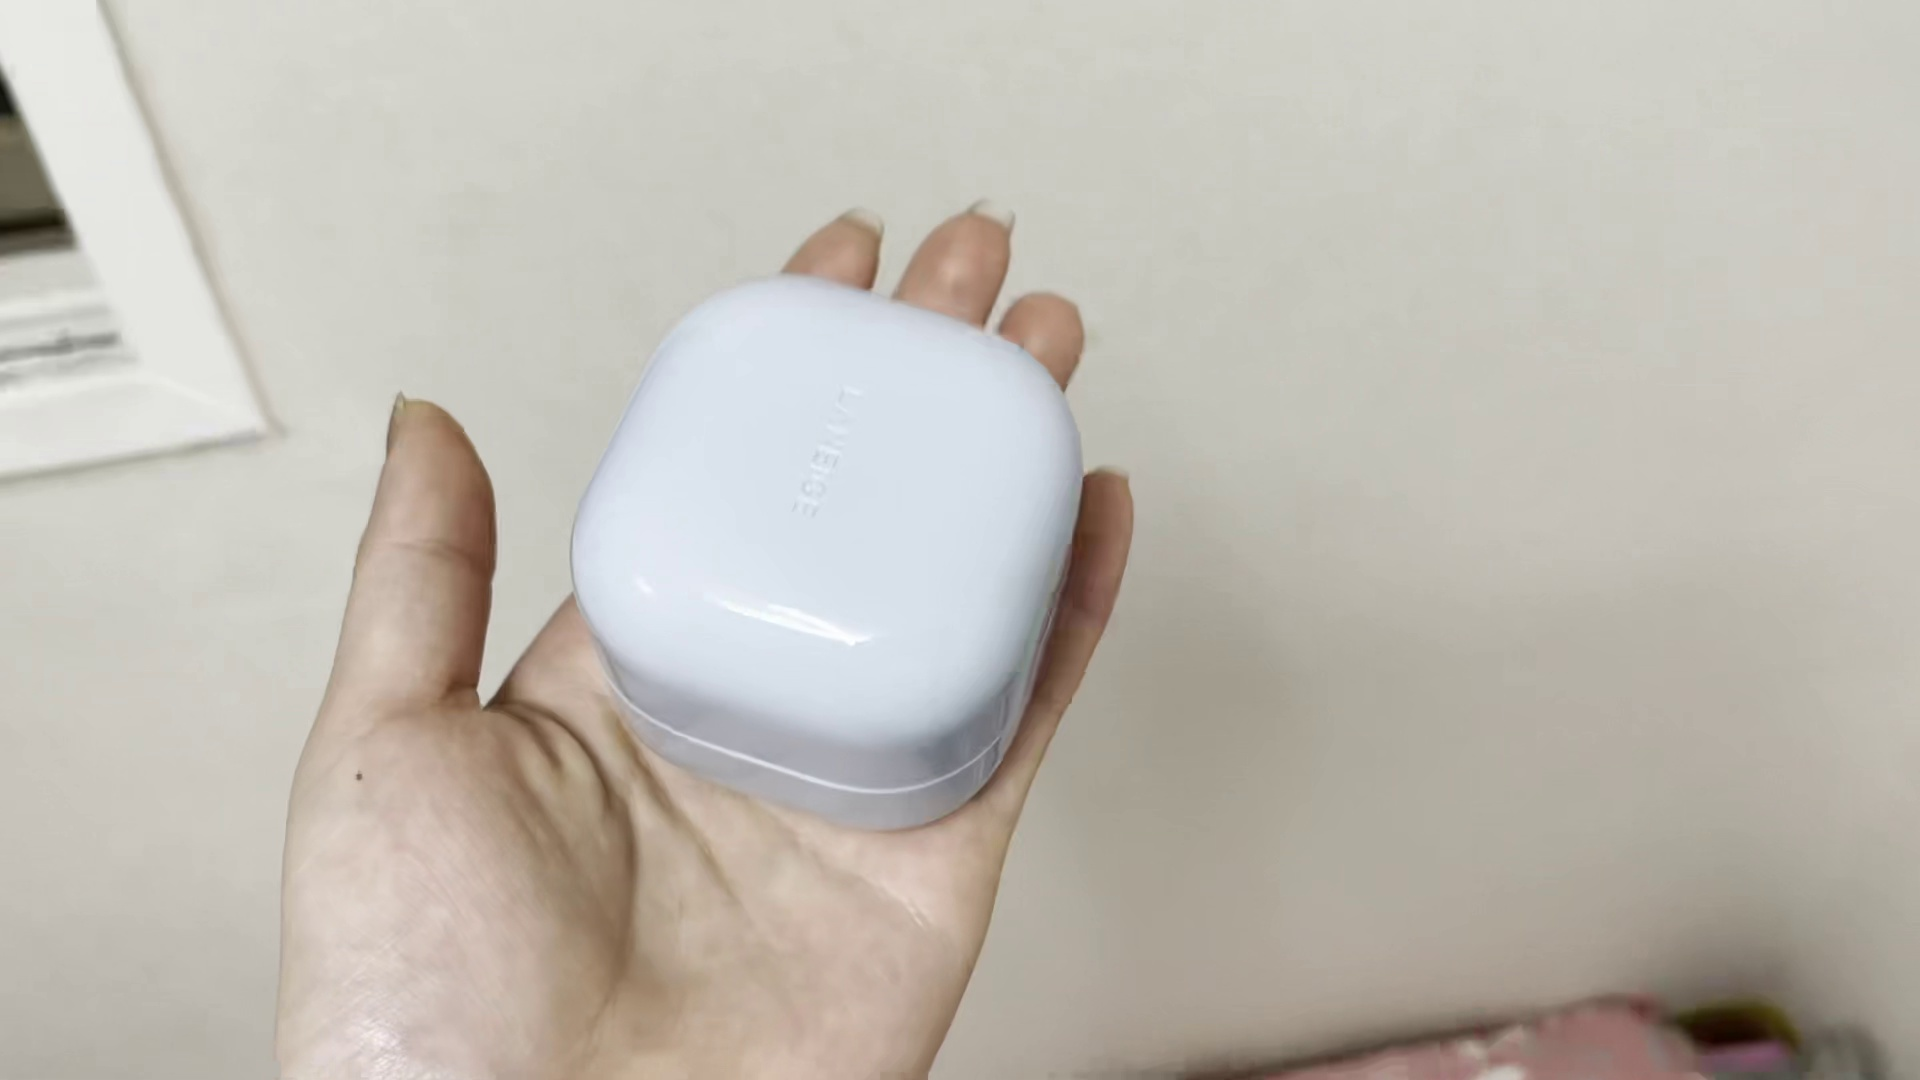cream: (568, 274, 1085, 839)
